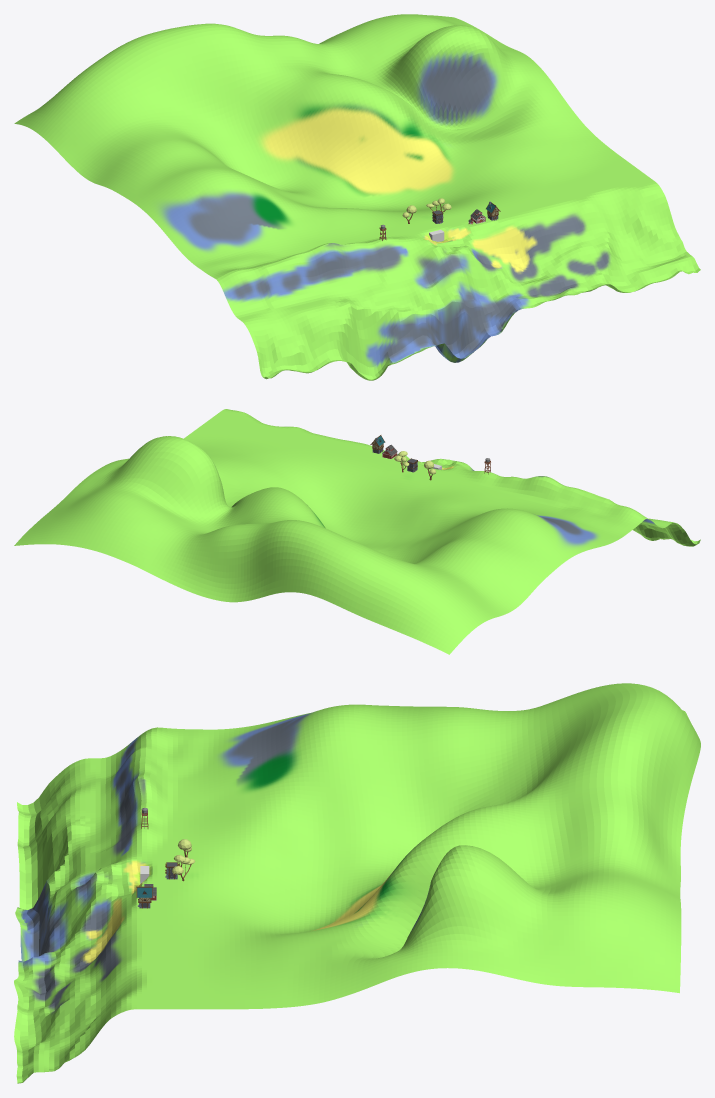
The model's file is debugscene.fbx.
3 views of the same model, one above another, from view 1: azimuth 30°, elevation 25°; view 2: azimuth 150°, elevation 25°; view 3: azimuth 270°, elevation 25° (orthographic). The views are drawn at different scales.
Parts seen in each view (by area): view 1: terrain; view 2: terrain; view 3: terrain.
Part boxes in pixels (left/top/right/bottom): terrain: left=14, top=14, right=700, bottom=380; terrain: left=14, top=409, right=700, bottom=654; terrain: left=14, top=683, right=700, bottom=1083.
Size of the model in its own units: 102723 by 39463 by 104003.
Materials: 32 (1 with a texture image).
